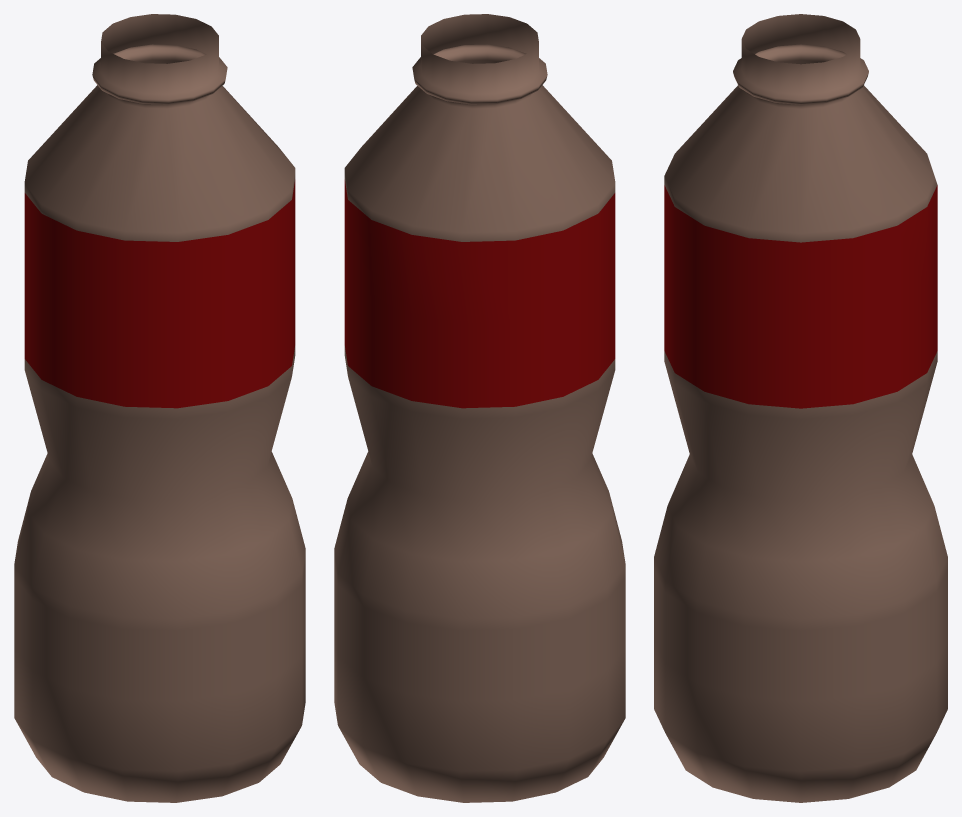
Rendered from Mesh_WaterBottle_S.fbx.
3 renders of one model, left to right at view 1: azimuth 30°, elevation 25°; view 2: azimuth 150°, elevation 25°; view 3: azimuth 270°, elevation 25°, orthographic.
Parts seen in each view (by area): view 1: water Bottle; view 2: water Bottle; view 3: water Bottle.
Boxes of the visible parts, left/top/right/bottom form: water Bottle: left=14, top=14, right=305, bottom=802; water Bottle: left=334, top=14, right=625, bottom=802; water Bottle: left=654, top=14, right=947, bottom=802.
Size of the model in its own units: 7.26 by 19.39 by 7.26.
